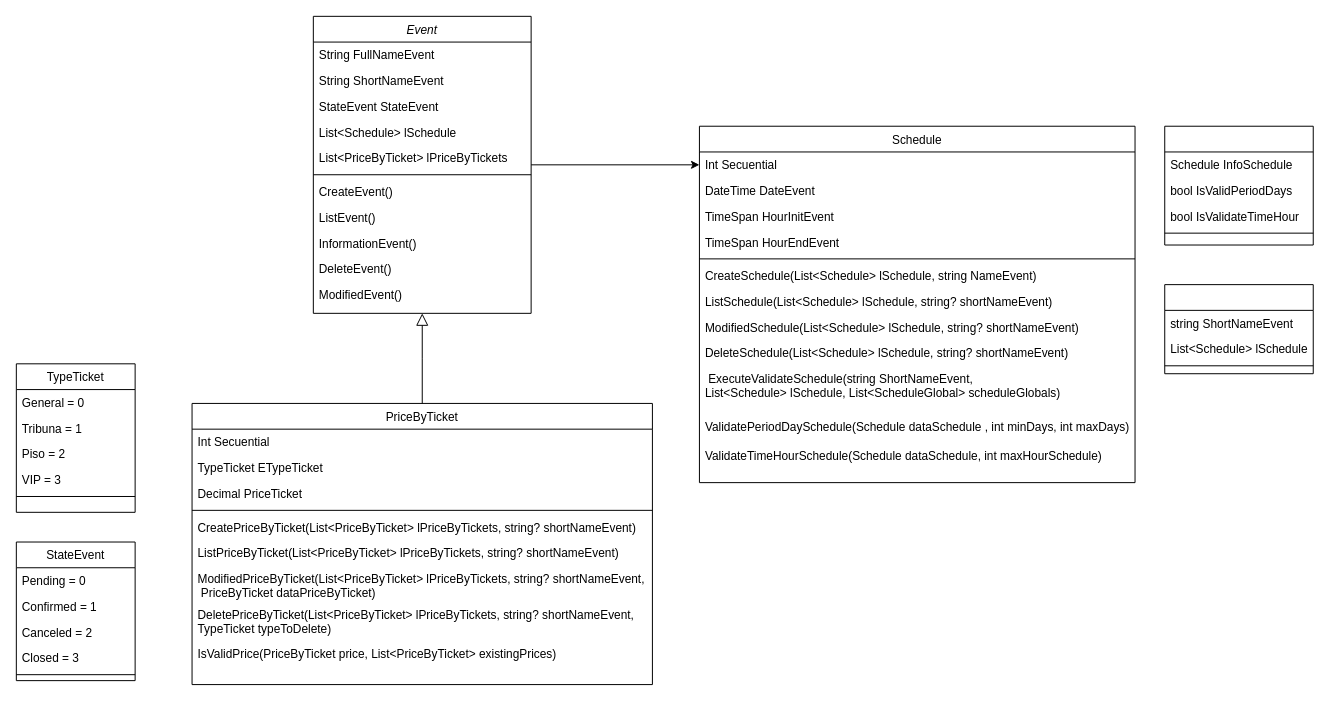
Image size: 1330x701. Some labels were removed from this diagram. The shapes that lost their labels are listed below. From the top down, each one's box as (x1, y1, x2, y2) in pixels, then its label:
(1164, 125, 1313, 245): ScheduleValidate
(1164, 284, 1313, 374): ScheduleGlobal
